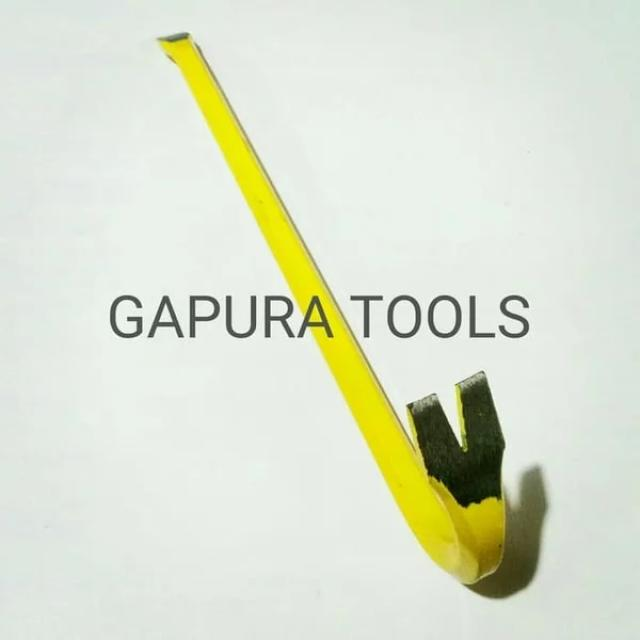Linggis: (161, 25, 508, 588)
